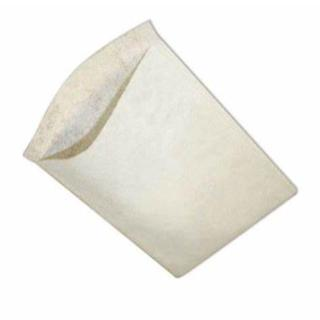Anorganik: (19, 17, 299, 278)
